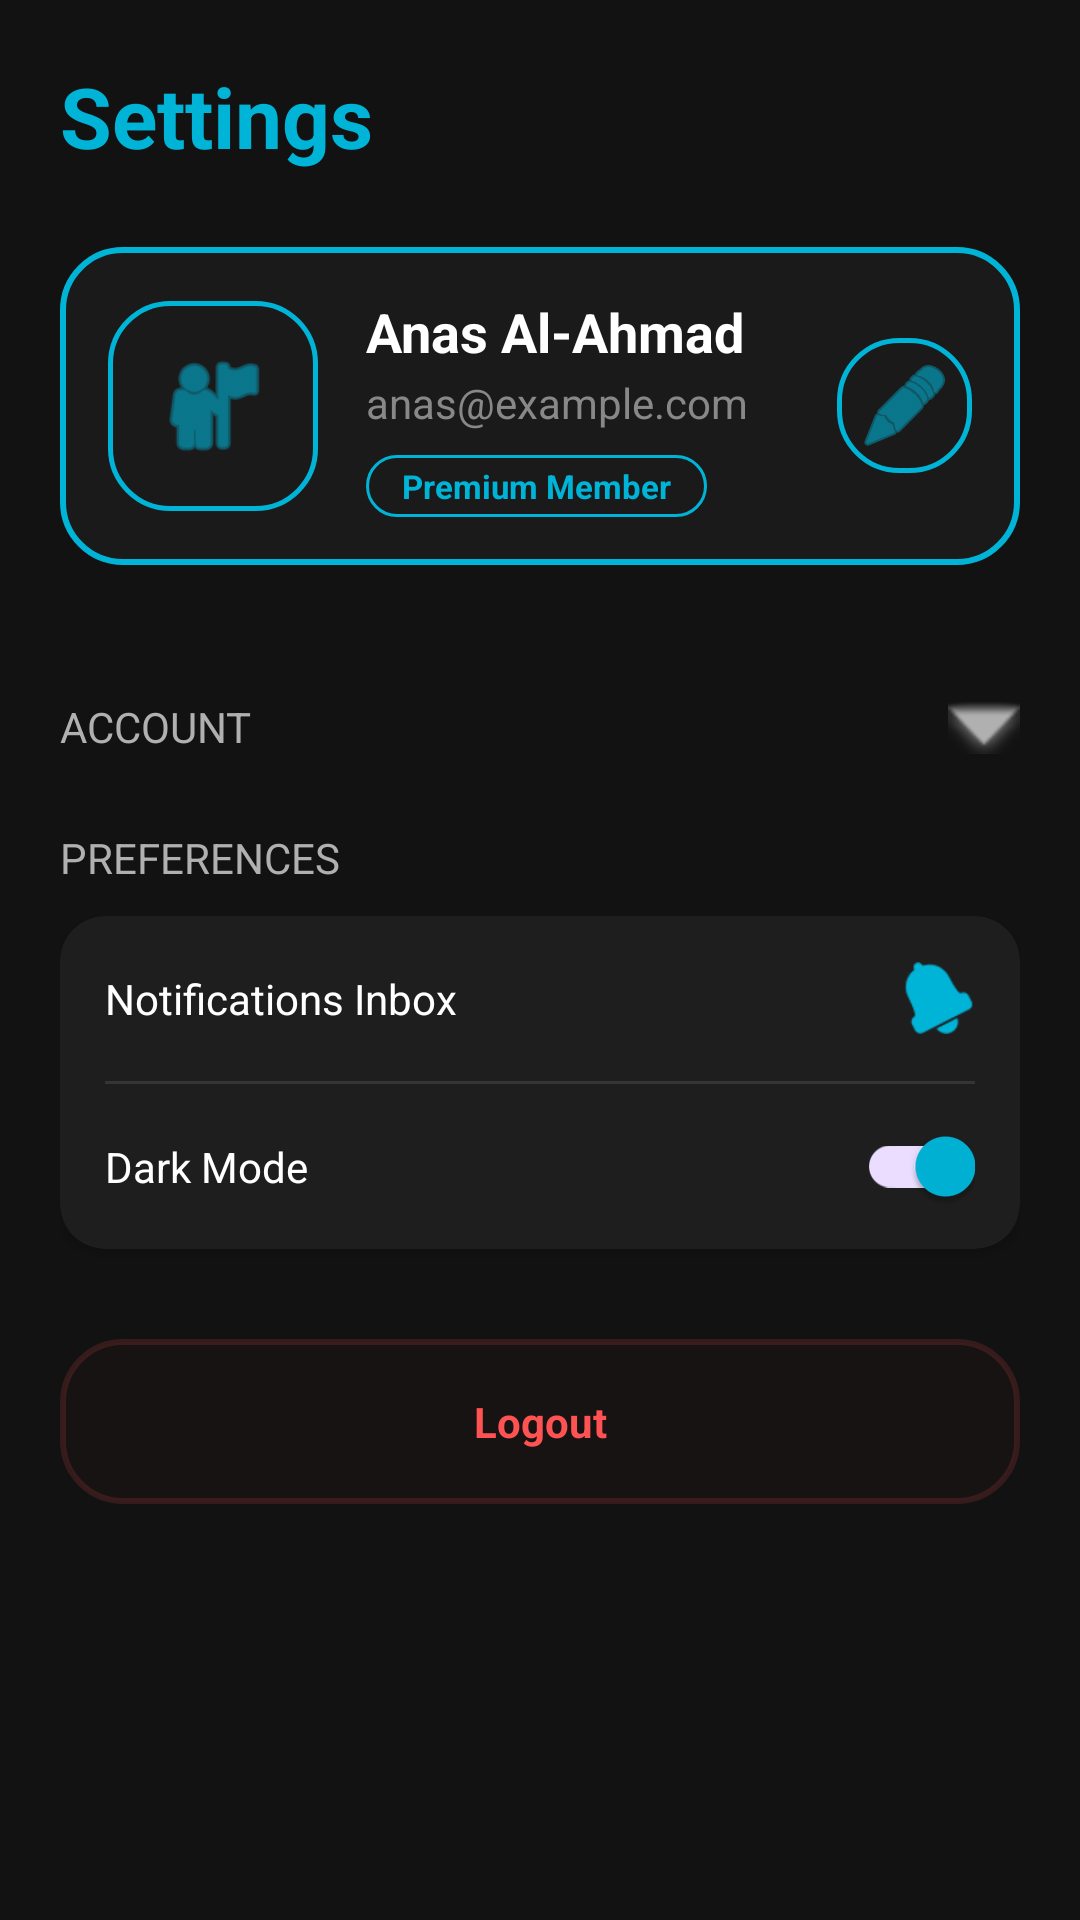

Named icons in this screenshot (1080w x 1920h) and their bounding boxes, {"left": x1, "top": y1, "right": x2, "bottom": y2}:
arrow down float: {"left": 948, "top": 704, "right": 1020, "bottom": 749}
edit: {"left": 837, "top": 338, "right": 972, "bottom": 473}
myplaces: {"left": 108, "top": 301, "right": 318, "bottom": 511}
popup reminder: {"left": 905, "top": 962, "right": 973, "bottom": 1034}
